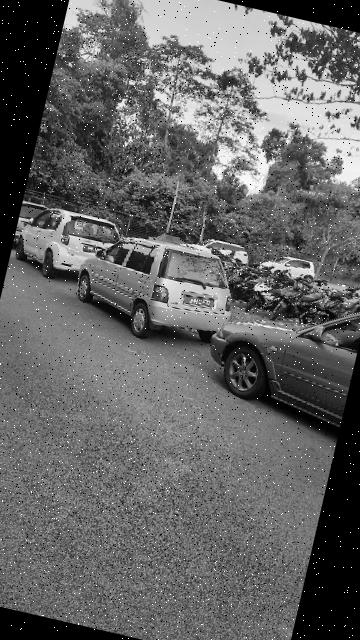License_Plate: (183, 291, 219, 312), (81, 243, 110, 259)
car: (197, 277, 360, 437), (69, 223, 248, 357), (11, 200, 125, 296)
